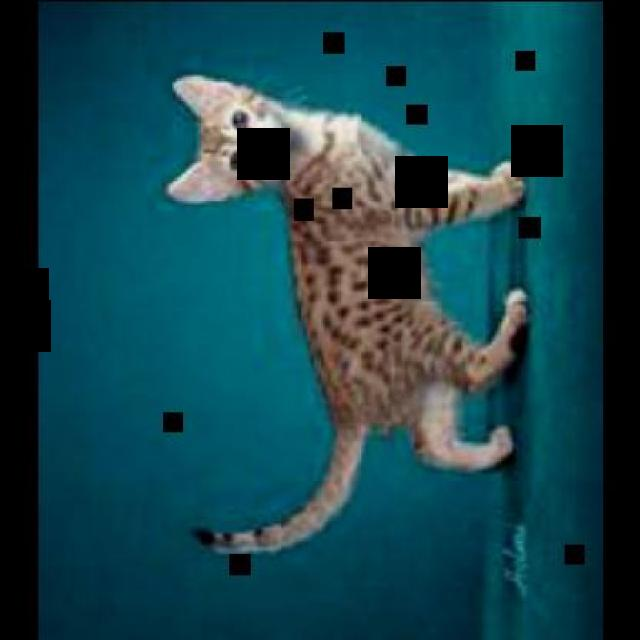unauthorized: (163, 72, 529, 557)
